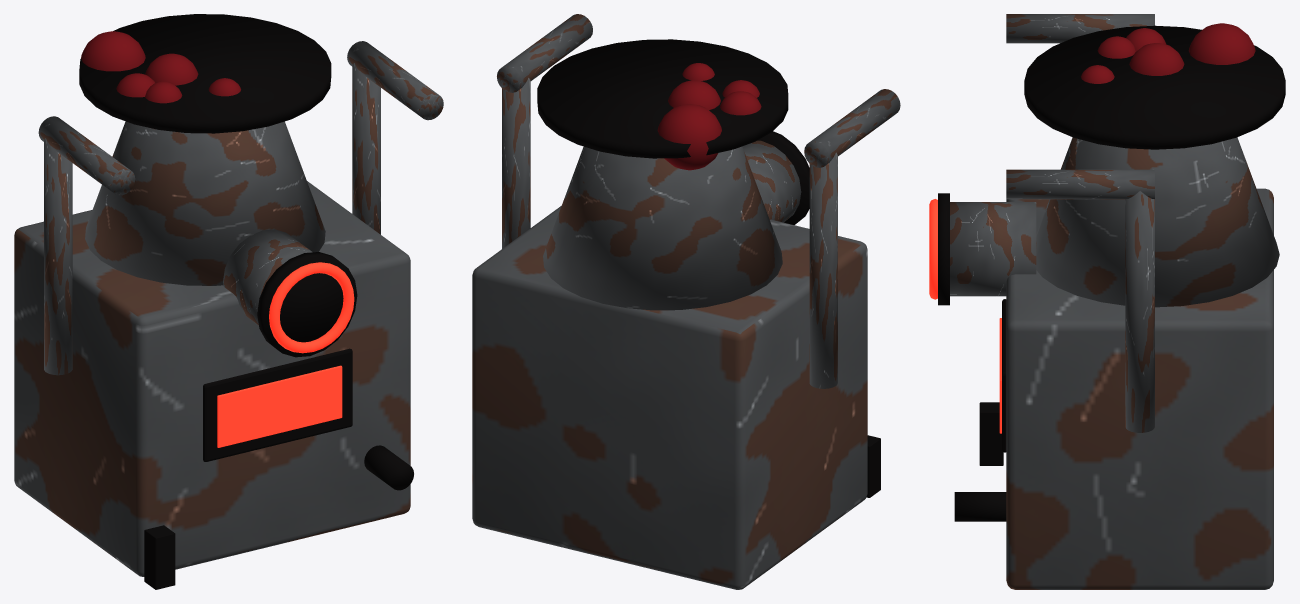
File: flesh-machine.glb
3 renders of one model, left to right at view 1: azimuth 30°, elevation 25°; view 2: azimuth 150°, elevation 25°; view 3: azimuth 270°, elevation 25°, orthographic. The views are drawn at different scales.
Visible parts, largest first — view 1: Cube, Cone, Cylinder, GrinderPanel, Cylinder.003, Cylinder.002, Cube.001, Cylinder.005, Cylinder.001, Cylinder.004, Cylinder.006, GrinderMouth (+6 smaller); view 2: Cube, Cone, Cylinder, Cylinder.003, Cylinder.005, Cylinder.004, Cylinder.006, Cylinder.001, Sphere.004, Cylinder.002, Sphere.001, Cube.002 (+1 smaller); view 3: Cube, Cone, Cylinder, Cylinder.001, Cylinder.005, Cylinder.006, Cylinder.004, Sphere.004, Cylinder.007, Cube.002, Sphere.001, Cylinder.002 (+5 smaller).
Boxes of the visible parts, x1,y1,x2,y2 form: Cube: (14,181,410,576); Cone: (85,121,325,285); Cylinder: (79,14,331,133); GrinderPanel: (217,365,342,447); Cylinder.003: (44,138,72,375); Cylinder.002: (257,252,357,357); Cube.001: (203,348,352,461); Cylinder.005: (352,63,380,234); Cylinder.001: (223,229,312,325); Cylinder.004: (38,116,135,195); Cylinder.006: (347,41,443,120); GrinderMouth: (269,262,354,353); Cube: (472,206,867,589); Cone: (543,146,782,310); Cylinder: (537,39,788,158); Cylinder.003: (809,152,837,388); Cylinder.005: (502,78,530,248); Cylinder.004: (804,89,900,167); Cylinder.006: (497,14,592,92); Cylinder.001: (742,140,801,222); Sphere.004: (657,104,721,170); Cylinder.002: (757,131,809,224); Sphere.001: (668,80,720,109); Cube.002: (866,435,880,497); Cube: (1006,188,1273,589); Cone: (1036,137,1279,307); Cylinder: (1024,25,1285,149); Cylinder.001: (950,202,1036,296); Cylinder.005: (1125,191,1154,432); Cylinder.006: (1006,169,1154,199); Cylinder.004: (1006,14,1154,43); Sphere.004: (1188,23,1255,64); Cylinder.007: (954,492,1006,521); Cube.002: (979,402,1003,465); Sphere.001: (1129,43,1184,75); Cylinder.002: (938,193,949,305).
Size of the model in its own units: 1.34 by 1.74 by 1.2.
Materials: 4 (1 with a texture image).
